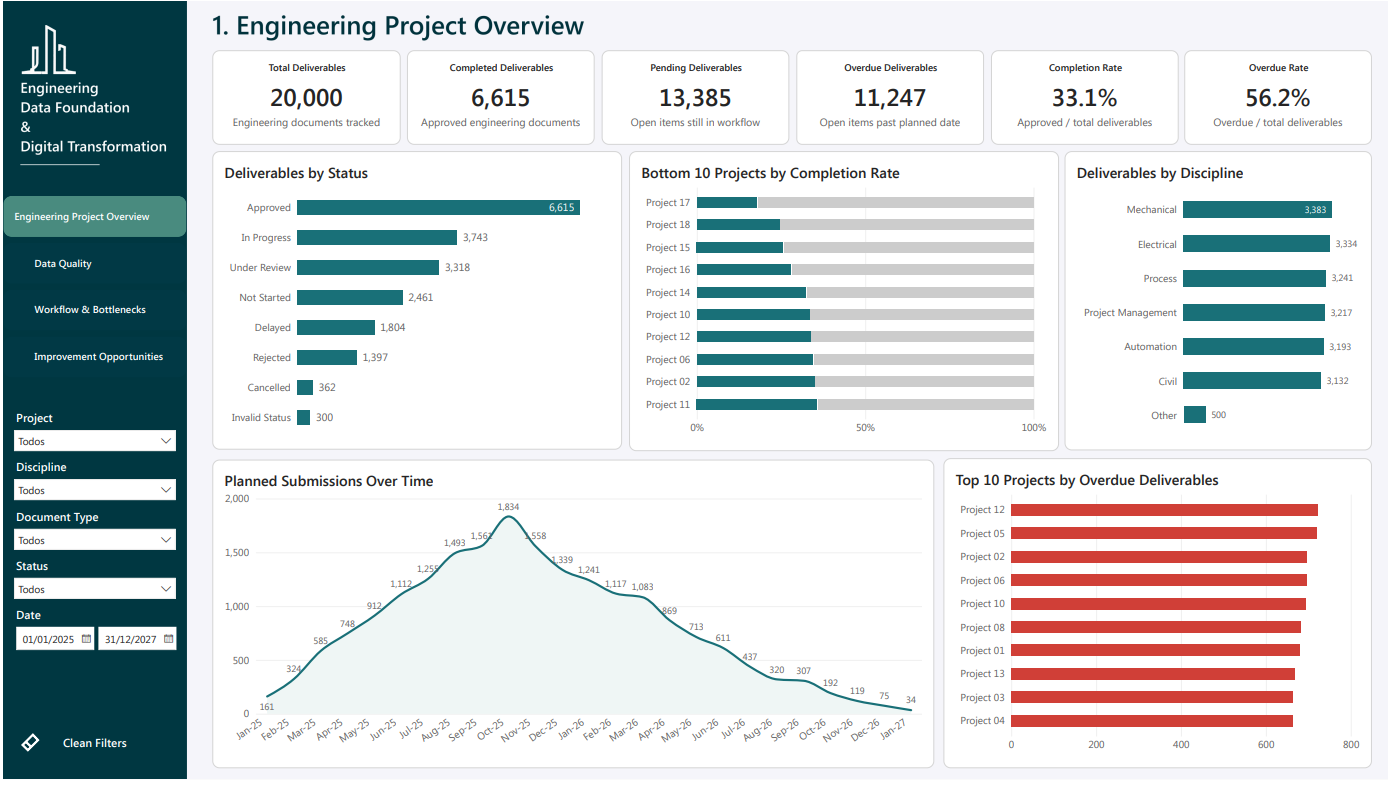

The page's visual inventory and layout, read from the dashboard file:
{"tool":"powerbi","page":{"name":"Engineering Project Overview","canvas":[1920,1080],"ordinal":0},"visuals":[{"type":"card","title":"Completion Rate","fields":{"Values":["Medidas.CompletionRate"]},"box":[1370,68,260,131],"z":0},{"type":"card","title":"Pending Deliverables","fields":{"Values":["Medidas.PendingDeliverables"]},"box":[830,68,260,131],"z":1000},{"type":"card","title":"Overdue Deliverables","fields":{"Values":["Medidas.OverdueDeliverables"]},"box":[1100,68,260,131],"z":2000},{"type":"card","title":"Overdue Rate","fields":{"Values":["Medidas.OverdueRate"]},"box":[1638,68,260,131],"z":3000},{"type":"clusteredBarChart","title":"Deliverables by Status","fields":{"Category":["vw_deliverables_overview.status_name"],"Y":["Medidas.TotalDeliverables"]},"box":[290,208,567.8,414.4],"z":4000},{"type":"barChart","title":"Bottom 10 Projects by Completion Rate","fields":{"Category":["vw_deliverables_overview.project_name"],"Y":["Medidas.CompletionRate","Medidas.PendingRate"]},"box":[868,208,596,416],"z":5000},{"type":"clusteredBarChart","title":"Deliverables by Discipline","fields":{"Category":["vw_deliverables_overview.discipline_name"],"Y":["Medidas.TotalDeliverables"]},"box":[1472,208,426,415],"z":6000},{"type":"areaChart","title":"Planned Submissions Over Time","fields":{"Category":["dCalendar.MonthYear"],"Y":["Medidas.TotalDeliverables"]},"box":[290,635.7,1001.4,428.6],"z":7000},{"type":"clusteredBarChart","title":"Top 10 Projects by Overdue Deliverables","fields":{"Category":["vw_deliverables_overview.project_name"],"Y":["Medidas.OverdueDeliverables"]},"box":[1304,634,594,430],"z":8000},{"type":"pageNavigator","box":[0,270,254,252],"z":9000},{"type":"card","title":"Total Deliverables","fields":{"Values":["Medidas.TotalDeliverables"]},"box":[290,68,260.8,131],"z":10000},{"type":"card","title":"Completed Deliverables","fields":{"Values":["Medidas.CompletedDeliverables"]},"box":[560,68,260,131],"z":11000},{"type":"actionButton","box":[0,992.5,253.8,70],"z":12000},{"type":"slicer","fields":{"Values":["vw_deliverables_overview.discipline_name"]},"box":[0,635.3,254.2,68.3],"z":13000},{"type":"slicer","fields":{"Values":["vw_deliverables_overview.project_name"]},"box":[0,567,254.2,68.3],"z":14000},{"type":"slicer","fields":{"Values":["vw_deliverables_overview.document_type_name"]},"box":[0,703.7,254.2,68.3],"z":15000},{"type":"slicer","fields":{"Values":["vw_deliverables_overview.status_name"]},"box":[0,772,254.2,68.3],"z":16000},{"type":"slicer","fields":{"Values":["dCalendar.Date"]},"box":[0,840,254,146],"z":17000}]}

Visuals, with their boxes on the page's 1920x1080 design canvas (x1, y1, x2, y2). These are canvas units, not pixel positions in the 1392x786 screenshot, which may show the page scaled, cropped or inside an application window:
"Completion Rate" card: 1370, 68, 1630, 199
"Pending Deliverables" card: 830, 68, 1090, 199
"Overdue Deliverables" card: 1100, 68, 1360, 199
"Overdue Rate" card: 1638, 68, 1898, 199
"Deliverables by Status" clusteredBarChart: 290, 208, 858, 622
"Bottom 10 Projects by Completion Rate" barChart: 868, 208, 1464, 624
"Deliverables by Discipline" clusteredBarChart: 1472, 208, 1898, 623
"Planned Submissions Over Time" areaChart: 290, 636, 1291, 1064
"Top 10 Projects by Overdue Deliverables" clusteredBarChart: 1304, 634, 1898, 1064
pageNavigator: 0, 270, 254, 522
"Total Deliverables" card: 290, 68, 551, 199
"Completed Deliverables" card: 560, 68, 820, 199
actionButton: 0, 992, 254, 1062
slicer - vw_deliverables_overview.discipline_name: 0, 635, 254, 704
slicer - vw_deliverables_overview.project_name: 0, 567, 254, 635
slicer - vw_deliverables_overview.document_type_name: 0, 704, 254, 772
slicer - vw_deliverables_overview.status_name: 0, 772, 254, 840
slicer - dCalendar.Date: 0, 840, 254, 986
